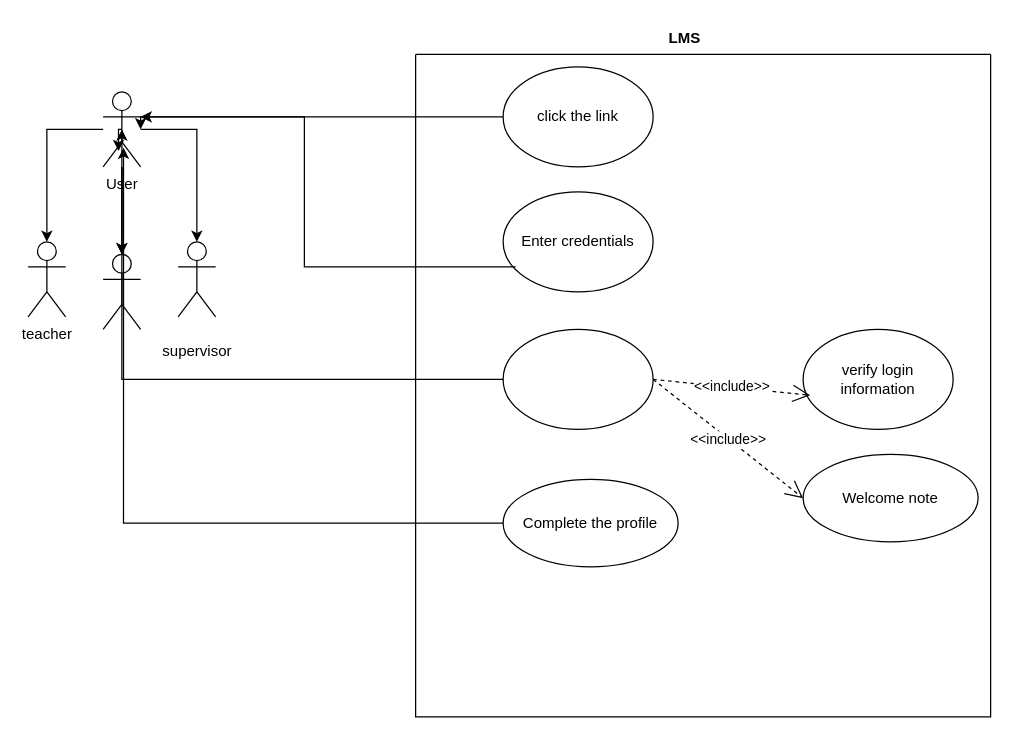
This 1013x739 diagram has some shape labels left out. The centre of each missing label's shape, as x and y in pixels:
"Login to the system" belongs at point (577, 378).
"Parent" belongs at point (121, 291).
